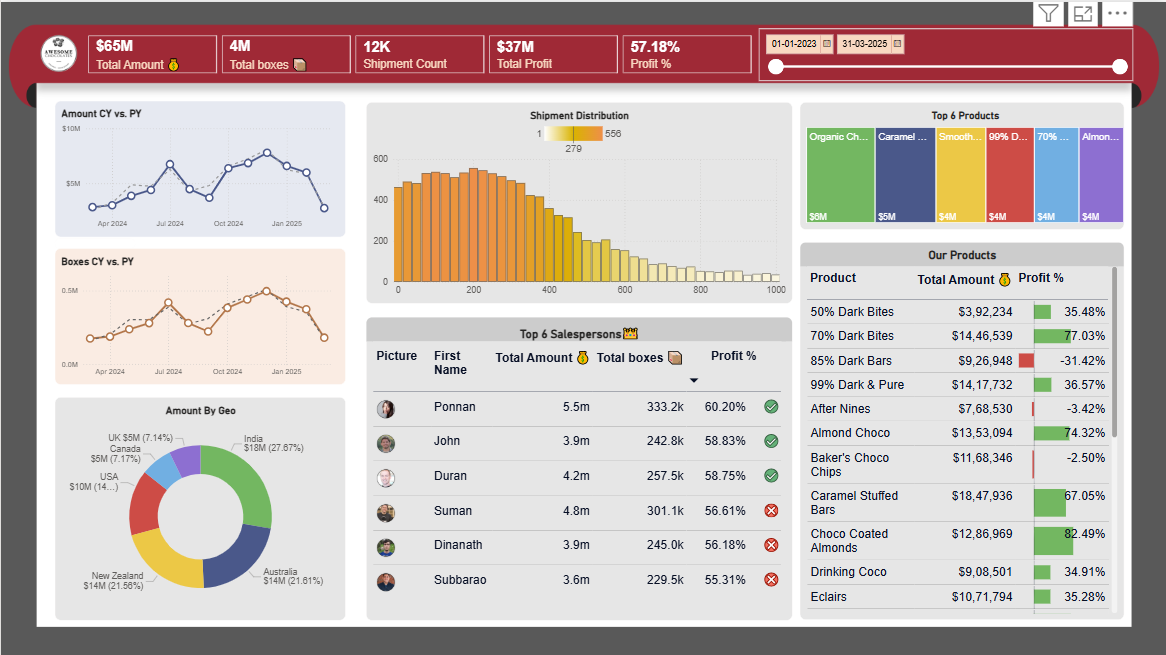

Layout of this report page (visuals, bound fields, positions):
{"tool":"powerbi","page":{"name":"Power BI Report","canvas":[1920,1080],"ordinal":8},"visuals":[{"type":"lineChart","title":"Amount CY vs. PY","fields":{"Y":["shipments.Total Amount","shipments.Total Amount (last year)"],"Category":["calendar.Start of Month"]},"box":[89.4,163.5,479.6,224.5],"z":0},{"type":"slicer","fields":{"Values":["calendar.Start of Month"]},"box":[89.4,388,133,17.4],"z":1000},{"type":"lineChart","title":"Boxes CY vs. PY","fields":{"Category":["calendar.Start of Month"],"Y":["shipments.Total boxes","shipments.Total Boxes (last year)"]},"box":[89.4,405.5,479.6,224.5],"z":2000},{"type":"donutChart","title":"Amount By Geo","fields":{"Category":["locations.Geo"],"Y":["shipments.Total Amount"]},"box":[89.4,649.6,479.6,368.4],"z":3000},{"type":"clusteredColumnChart","title":"Shipment Distribution","fields":{"Y":["shipments.Shipment Count"],"Category":["shipments.Boxes (bins)"]},"box":[602,164,702,332],"z":4000},{"type":"tableEx","title":"Top 6 Salespersons👑","fields":{"Values":["people.Picture","people.First Name","shipments.Total Amount","shipments.Total boxes","shipments.Profit %"]},"box":[602,518,702,500],"z":5000},{"type":"treemap","title":"Top 6 Products","fields":{"Values":["shipments.Total Amount 💰"],"Group":["products.Product"]},"box":[1315.7,164.3,534.3,210],"z":6000},{"type":"tableEx","title":"Our Products","fields":{"Values":["products.Product","shipments.Total Amount 💰","shipments.Profit %"]},"box":[1316,396,534,622],"z":7000},{"type":"cardVisual","fields":{"Data":["shipments.Total Amount 💰","shipments.Total boxes 📦","shipments.Shipment Count","shipments.Total Profit","shipments.Profit %"]},"box":[122,44,1126,86],"z":8000},{"type":"slicer","fields":{"Values":["calendar.cal_date"]},"box":[1248,44,616,86],"z":9000}]}

Visuals, with their boxes on the page's 1920x1080 design canvas (x1, y1, x2, y2). These are canvas units, not pixel positions in the 1166x655 screenshot, which may show the page scaled, cropped or inside an application window:
"Amount CY vs. PY" lineChart: region(89, 164, 569, 388)
slicer - calendar.Start of Month: region(89, 388, 222, 405)
"Boxes CY vs. PY" lineChart: region(89, 406, 569, 630)
"Amount By Geo" donutChart: region(89, 650, 569, 1018)
"Shipment Distribution" clusteredColumnChart: region(602, 164, 1304, 496)
"Top 6 Salespersons👑" tableEx: region(602, 518, 1304, 1018)
"Top 6 Products" treemap: region(1316, 164, 1850, 374)
"Our Products" tableEx: region(1316, 396, 1850, 1018)
cardVisual - shipments.Total Amount 💰 x shipments.Total boxes 📦: region(122, 44, 1248, 130)
slicer - calendar.cal_date: region(1248, 44, 1864, 130)
